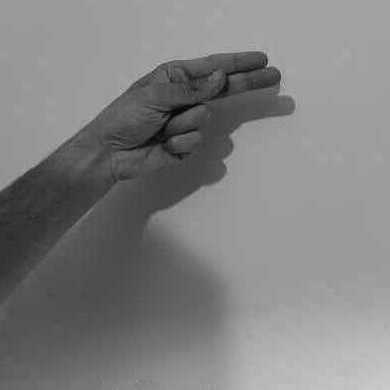H: (105, 50, 282, 180)
